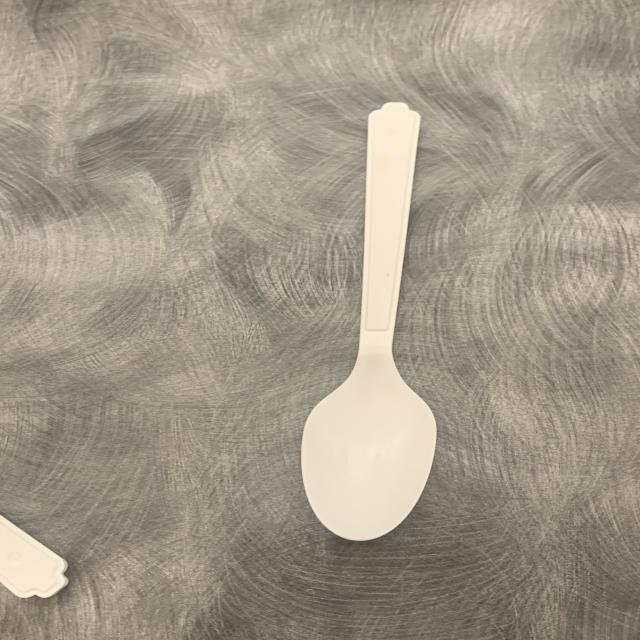spoon: (293, 85, 472, 575)
